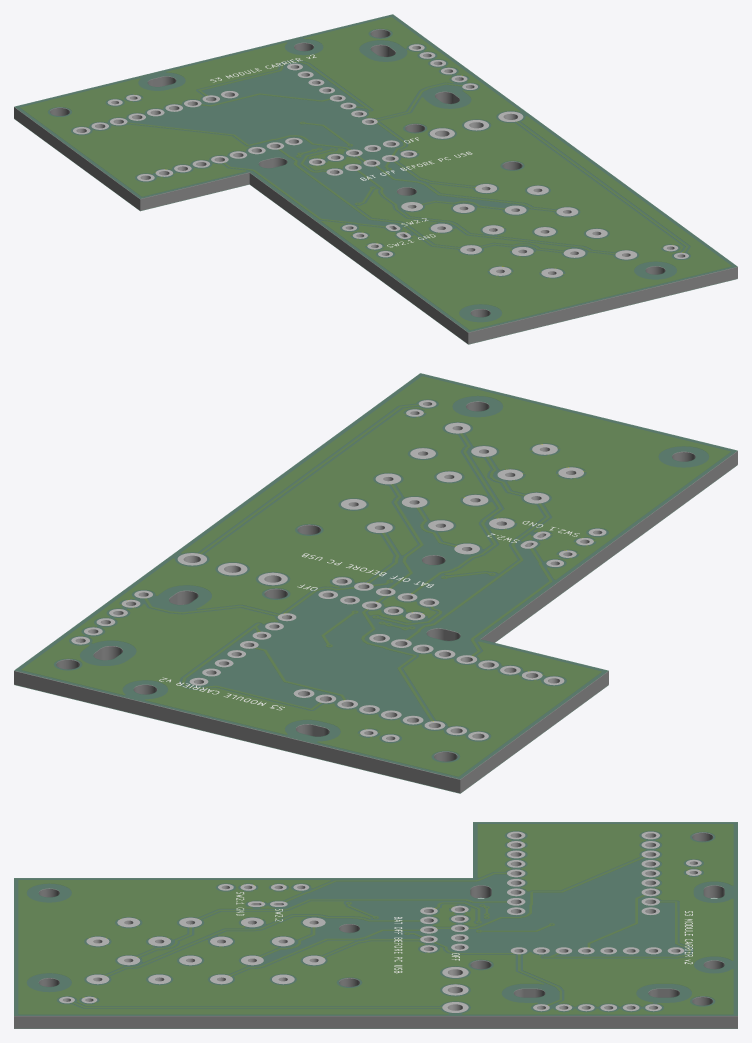
File: preview-rectangular-mount.glb
The picture shows the model from 3 angles, top to bottom: view 1: azimuth 30°, elevation 25°; view 2: azimuth 150°, elevation 25°; view 3: azimuth 270°, elevation 25°; orthographic projection. The views are drawn at different scales.
Visible parts, largest first — view 1: =>[0:1:1:6], =>[0:1:1:2], =>[0:1:1:8], =>[0:1:1:3], =>[0:1:1:7], =>[0:1:1:5]; view 2: =>[0:1:1:6], =>[0:1:1:2], =>[0:1:1:8], =>[0:1:1:3], =>[0:1:1:7], =>[0:1:1:5]; view 3: =>[0:1:1:6], =>[0:1:1:2], =>[0:1:1:8], =>[0:1:1:3], =>[0:1:1:7], =>[0:1:1:5].
Boxes of the visible parts, box(x1,y1,x2,y2) form: =>[0:1:1:6]: box(14, 14, 737, 332); =>[0:1:1:2]: box(21, 17, 730, 329); =>[0:1:1:8]: box(14, 15, 737, 344); =>[0:1:1:3]: box(73, 44, 688, 277); =>[0:1:1:7]: box(14, 119, 736, 344); =>[0:1:1:5]: box(210, 54, 472, 247); =>[0:1:1:6]: box(14, 373, 737, 779); =>[0:1:1:2]: box(22, 377, 729, 775); =>[0:1:1:8]: box(14, 374, 737, 793); =>[0:1:1:3]: box(71, 400, 606, 741); =>[0:1:1:7]: box(14, 465, 737, 793); =>[0:1:1:5]: box(159, 521, 579, 710); =>[0:1:1:6]: box(14, 822, 737, 1015); =>[0:1:1:2]: box(19, 824, 732, 1013); =>[0:1:1:8]: box(14, 823, 737, 1028); =>[0:1:1:3]: box(59, 831, 701, 1012); =>[0:1:1:7]: box(14, 897, 737, 1028); =>[0:1:1:5]: box(236, 892, 692, 973).
Bounding box in the file's own units: 0.052 × 0.00163 × 0.082.
